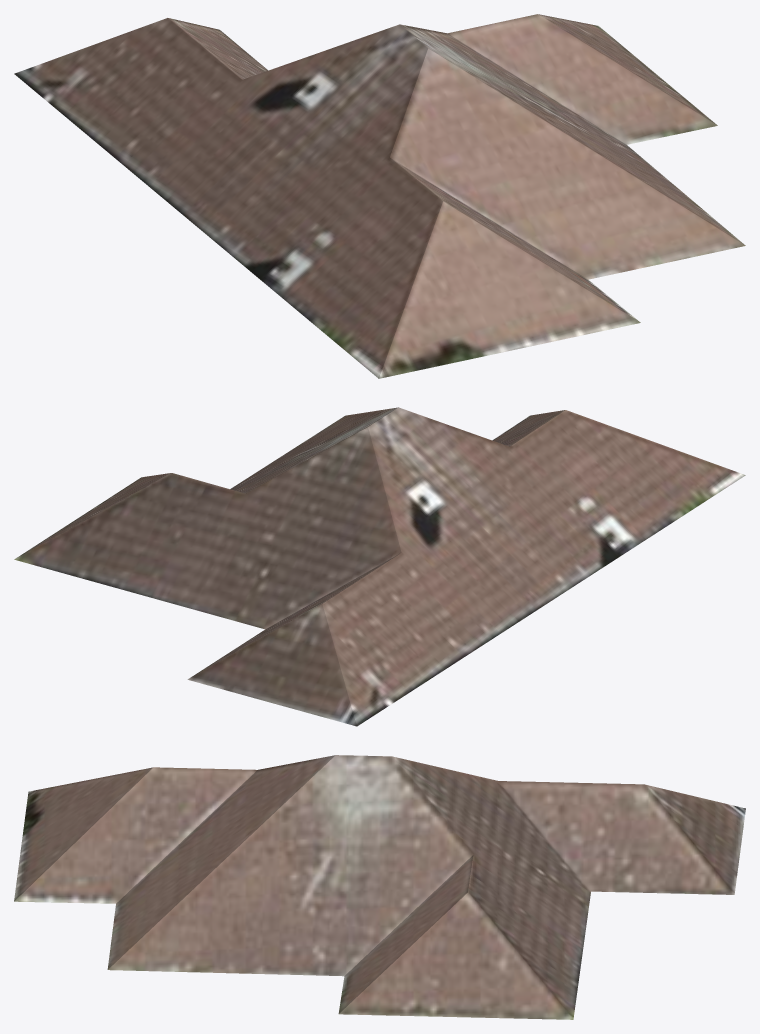
Rendered from CG10_500_047071_0026_roof.obj.
The picture shows the model from 3 angles, top to bottom: view 1: azimuth 30°, elevation 25°; view 2: azimuth 150°, elevation 25°; view 3: azimuth 270°, elevation 25°; orthographic projection. The views are drawn at different scales.
Parts seen in each view (by area): view 1: CG10_500_047071_0026_roof; view 2: CG10_500_047071_0026_roof; view 3: CG10_500_047071_0026_roof.
Boxes of the visible parts, bbox=[...] form: CG10_500_047071_0026_roof: bbox=[14, 14, 745, 378]; CG10_500_047071_0026_roof: bbox=[14, 407, 745, 726]; CG10_500_047071_0026_roof: bbox=[14, 755, 745, 1019].
Size of the model in its own units: 258 by 70 by 349.
Materials: 1 (1 with a texture image).
